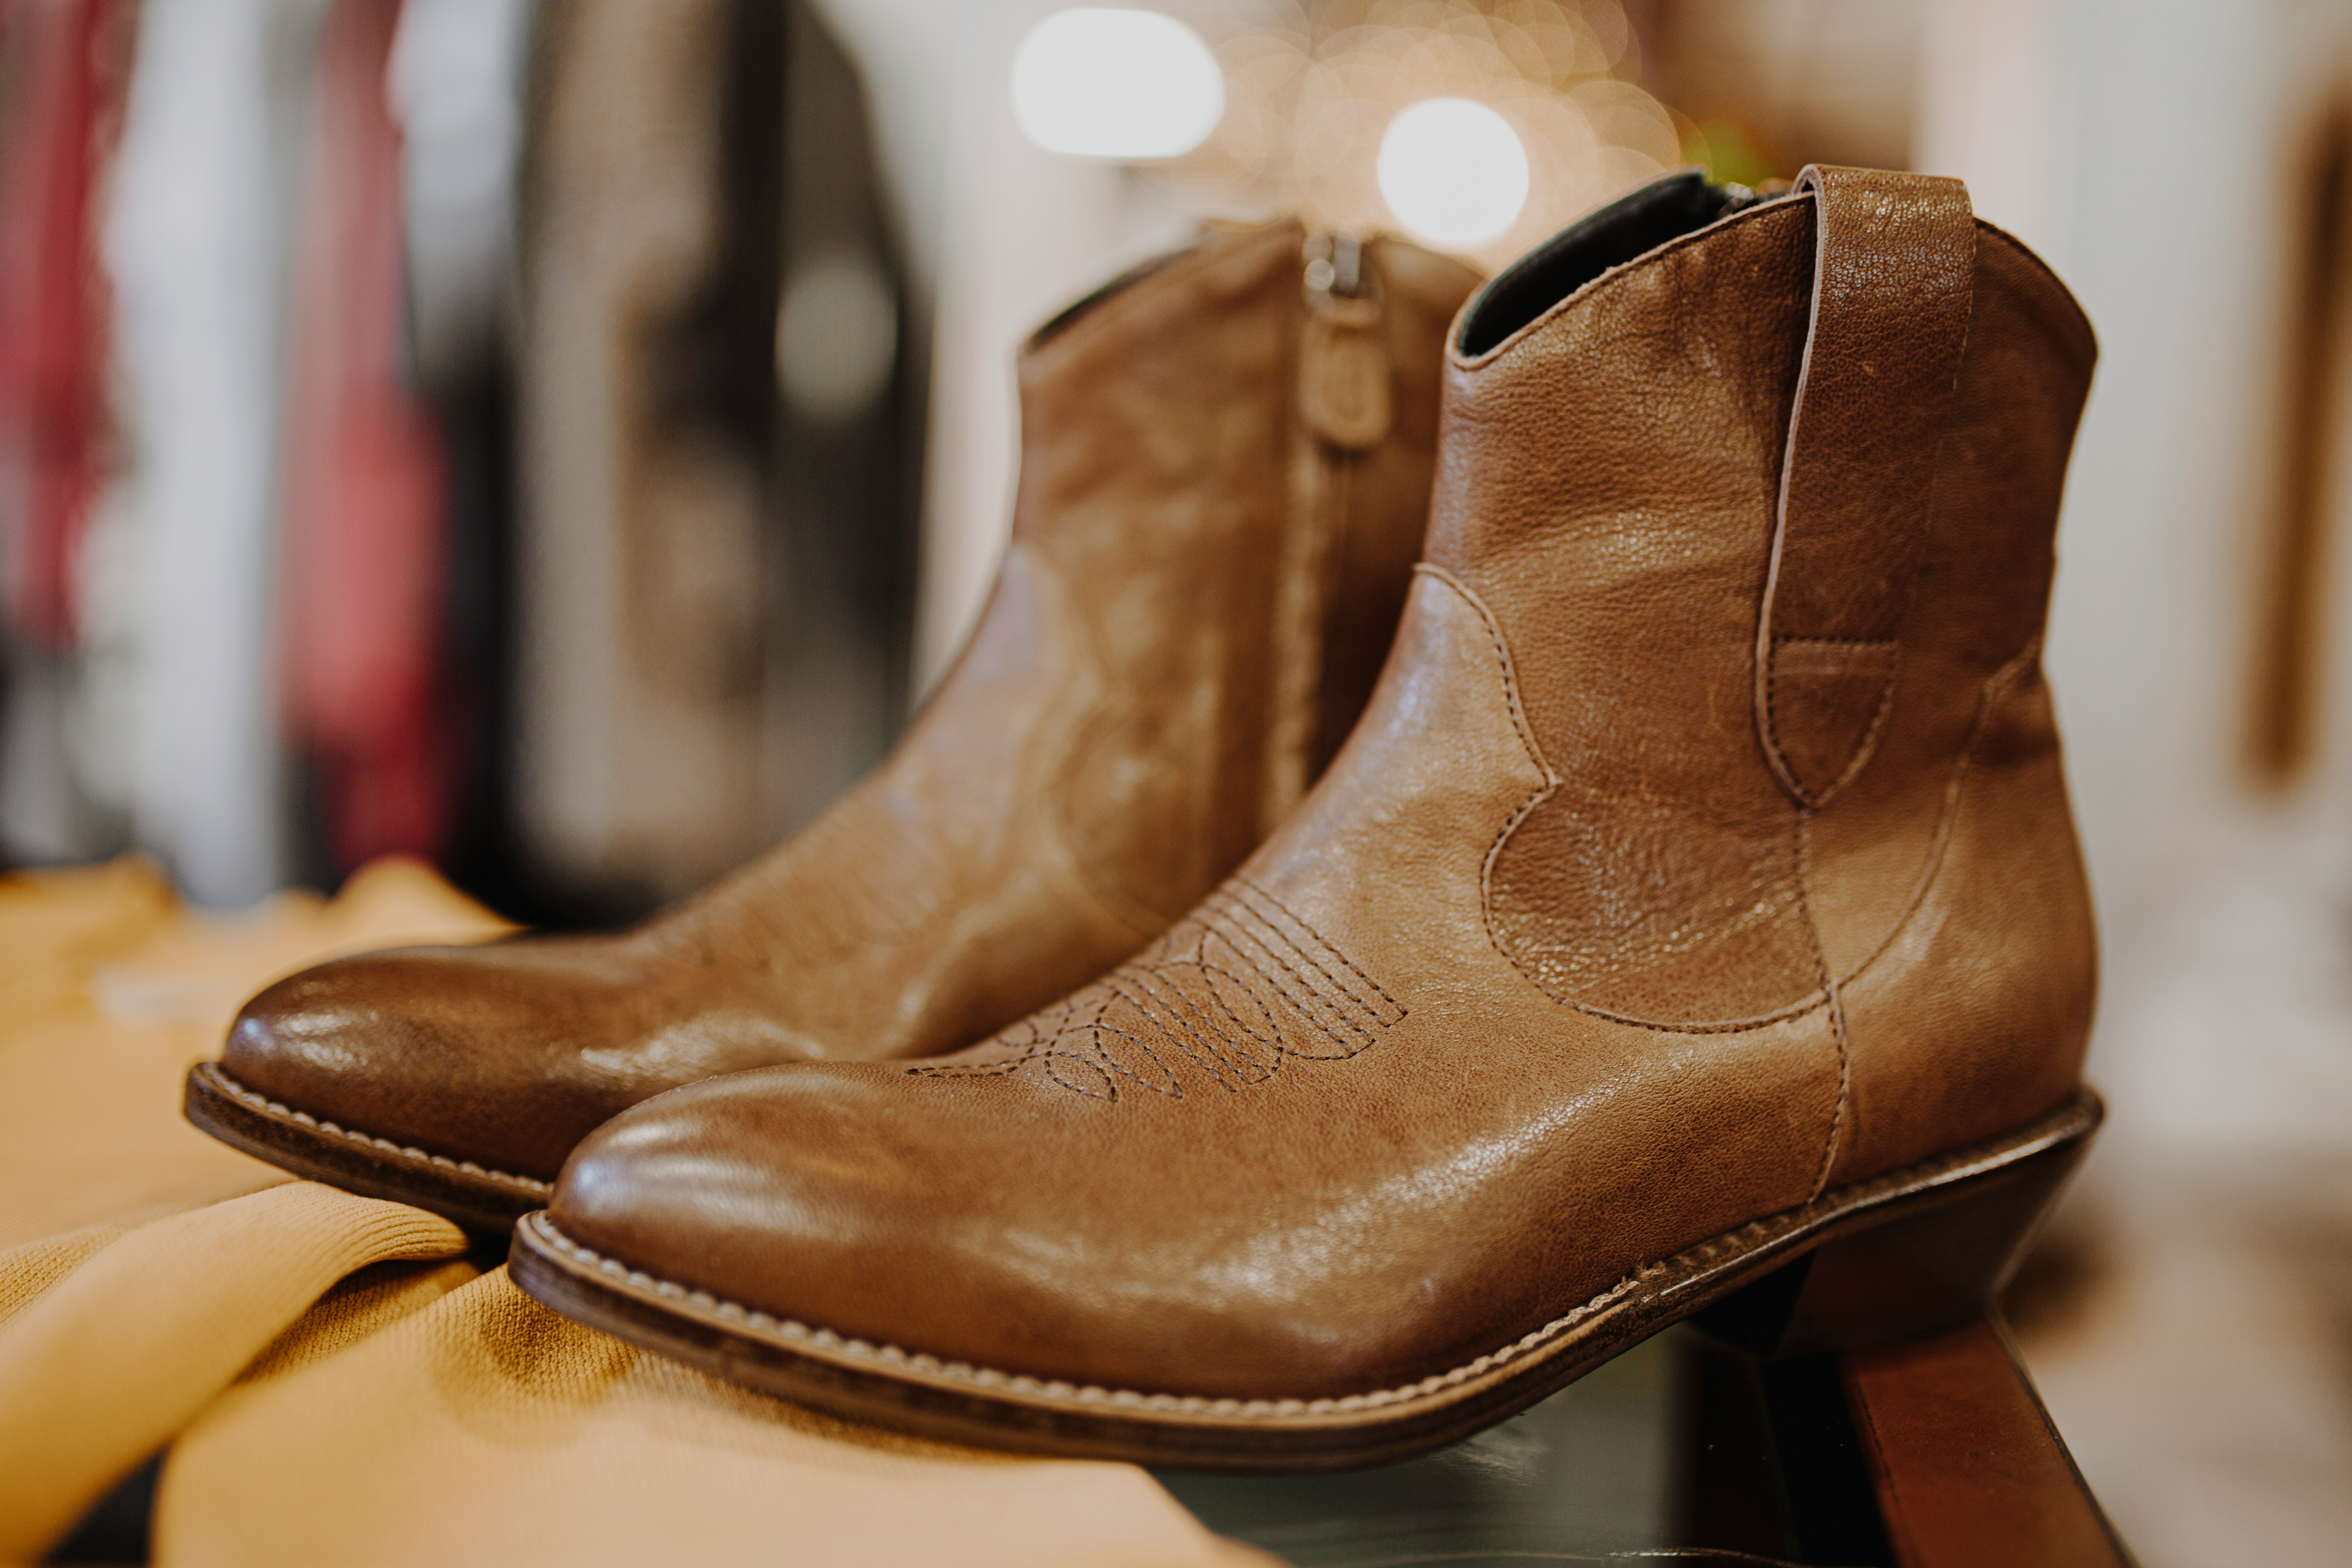Footwear: (143, 196, 2147, 1435)
